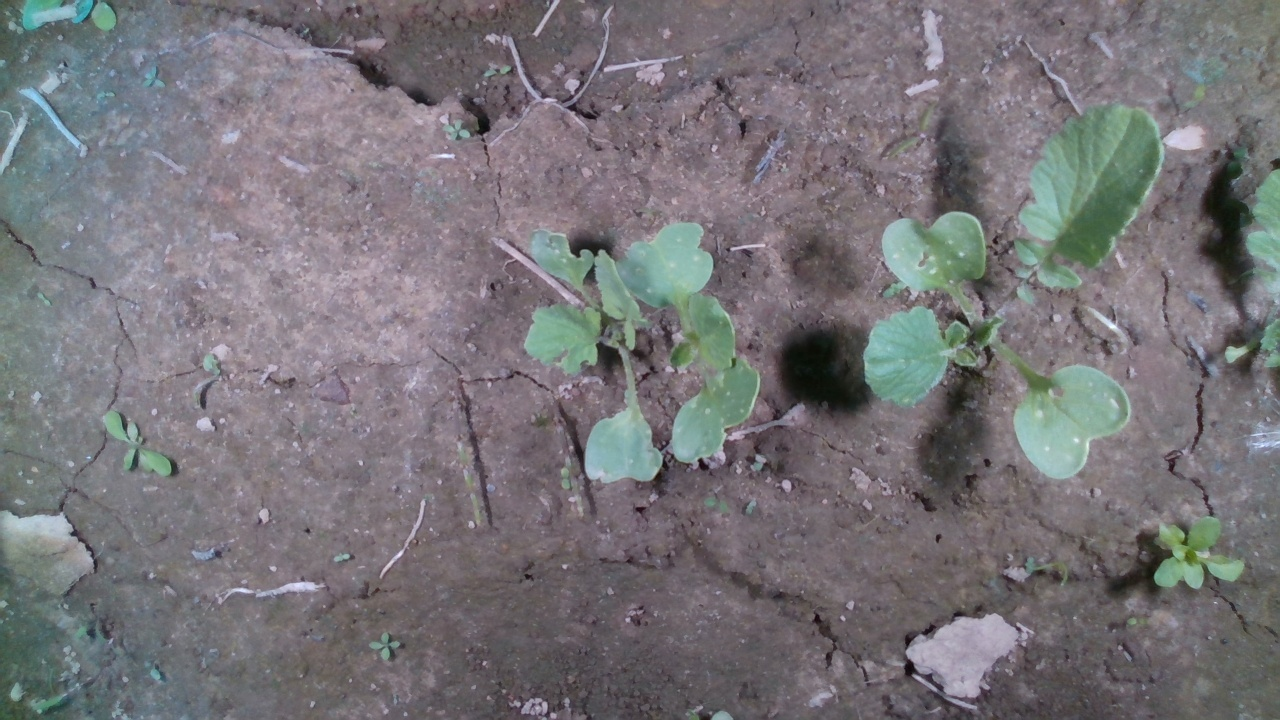weed: (101, 409, 174, 478), (887, 98, 938, 160), (366, 632, 402, 661), (140, 63, 167, 89), (441, 119, 471, 142), (701, 495, 729, 515)
